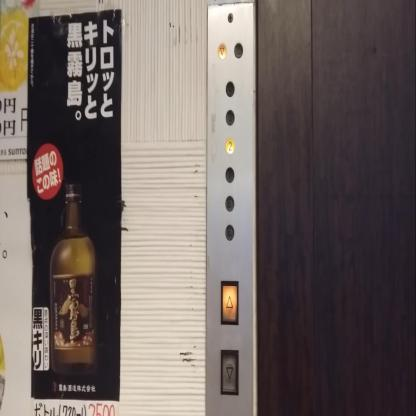1: (225, 166, 234, 183)
2: (225, 138, 234, 154)
B: (225, 194, 234, 212), (225, 224, 234, 241)
blur: (225, 109, 235, 126), (226, 80, 235, 97)
down: (220, 349, 238, 395), (217, 43, 226, 58)
up: (220, 280, 238, 326), (234, 42, 243, 58)
